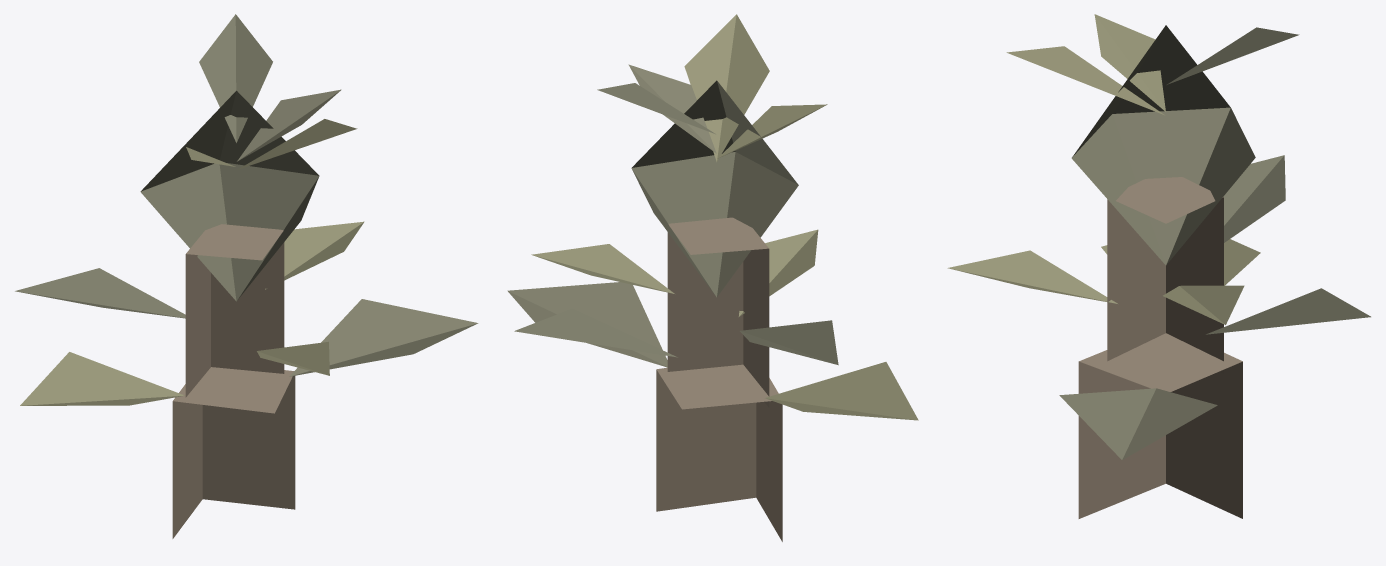
File: shu.maozhu@seedling__winter.glb
3 views of the same model, side by side, from view 1: azimuth 30°, elevation 25°; view 2: azimuth 150°, elevation 25°; view 3: azimuth 270°, elevation 25° (orthographic). The views are drawn at different scales.
Parts seen in each view (by area): view 1: shu.maozhu@seedling__winter; view 2: shu.maozhu@seedling__winter; view 3: shu.maozhu@seedling__winter.
Part boxes in pixels (x1=…): shu.maozhu@seedling__winter: x1=15, y1=14, x2=478, y2=538; shu.maozhu@seedling__winter: x1=507, y1=14, x2=918, y2=541; shu.maozhu@seedling__winter: x1=947, y1=14, x2=1370, y2=518.
Size of the model in its own units: 0.4222 by 0.4255 by 0.3171.
